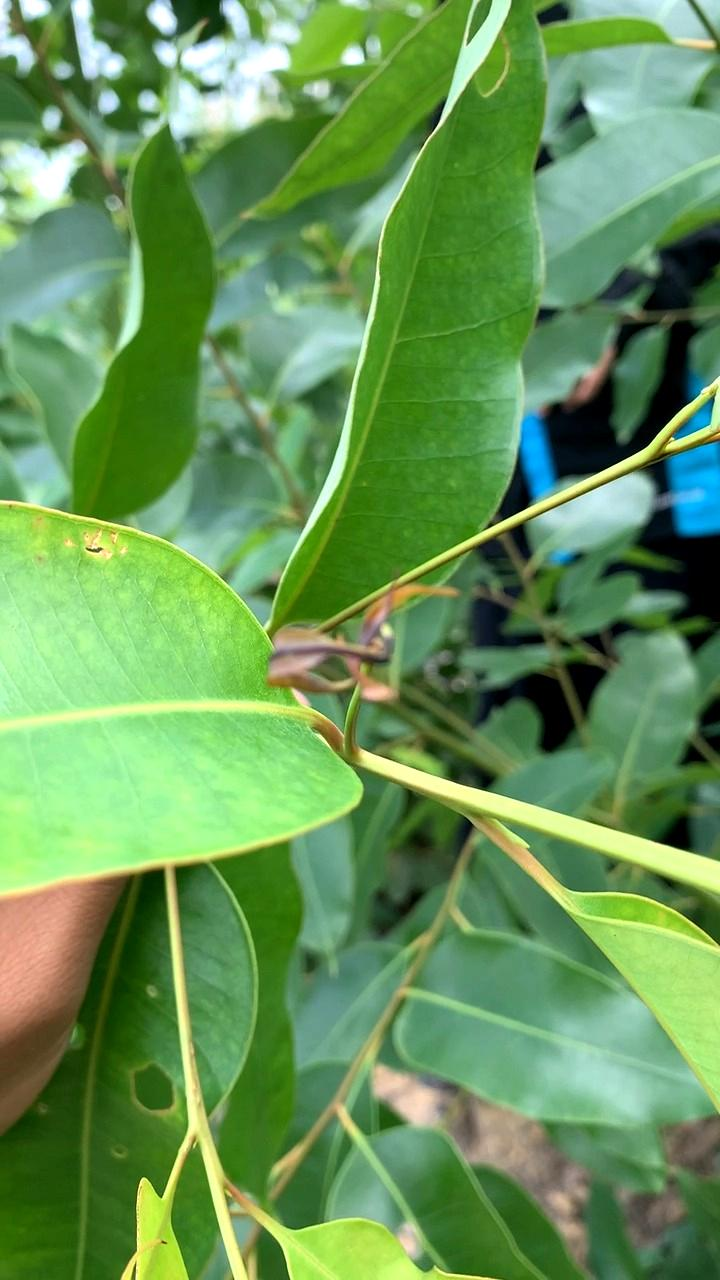Helopeltis-Withered Sprout: (266, 575, 465, 697)
